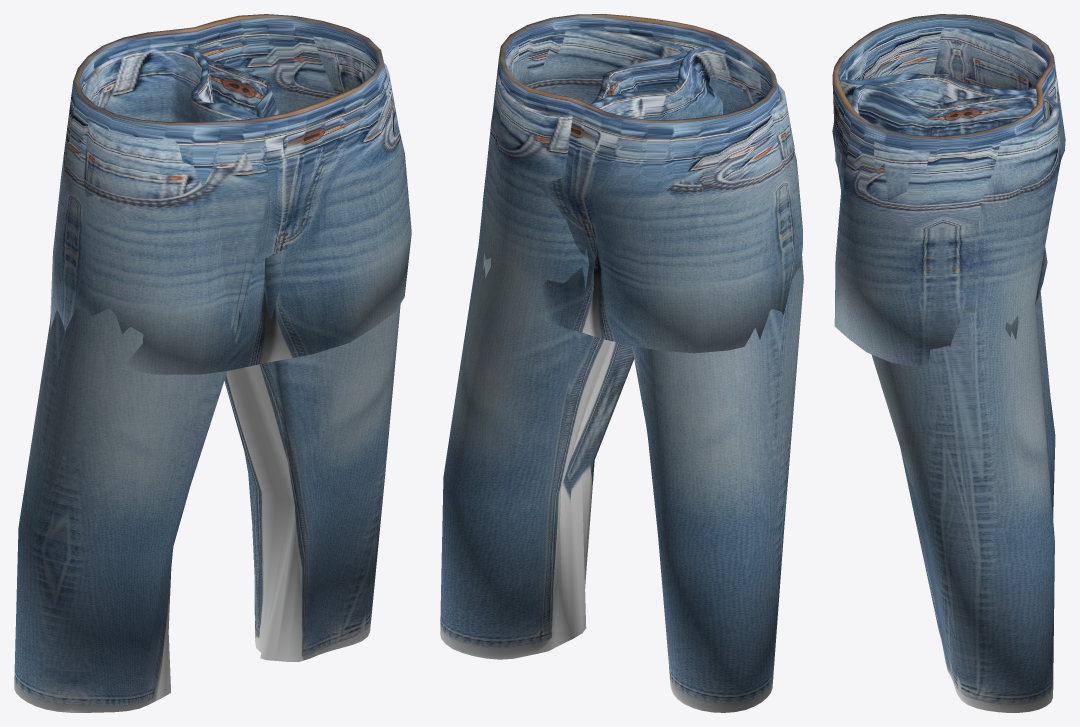
3 renders of one model, left to right at view 1: azimuth 30°, elevation 25°; view 2: azimuth 150°, elevation 25°; view 3: azimuth 270°, elevation 25°, orthographic. The views are drawn at different scales.
Visible parts, largest first — view 1: garment_leg0; view 2: garment_leg0; view 3: garment_leg0.
Part boxes in pixels (box(x1,y1,x2,y2)): garment_leg0: box(14, 14, 411, 712); garment_leg0: box(440, 14, 803, 712); garment_leg0: box(832, 14, 1065, 712).
Bounding box in the file's own units: 0.4492 × 0.7726 × 0.2885.
Materials: 1 (1 with a texture image).
